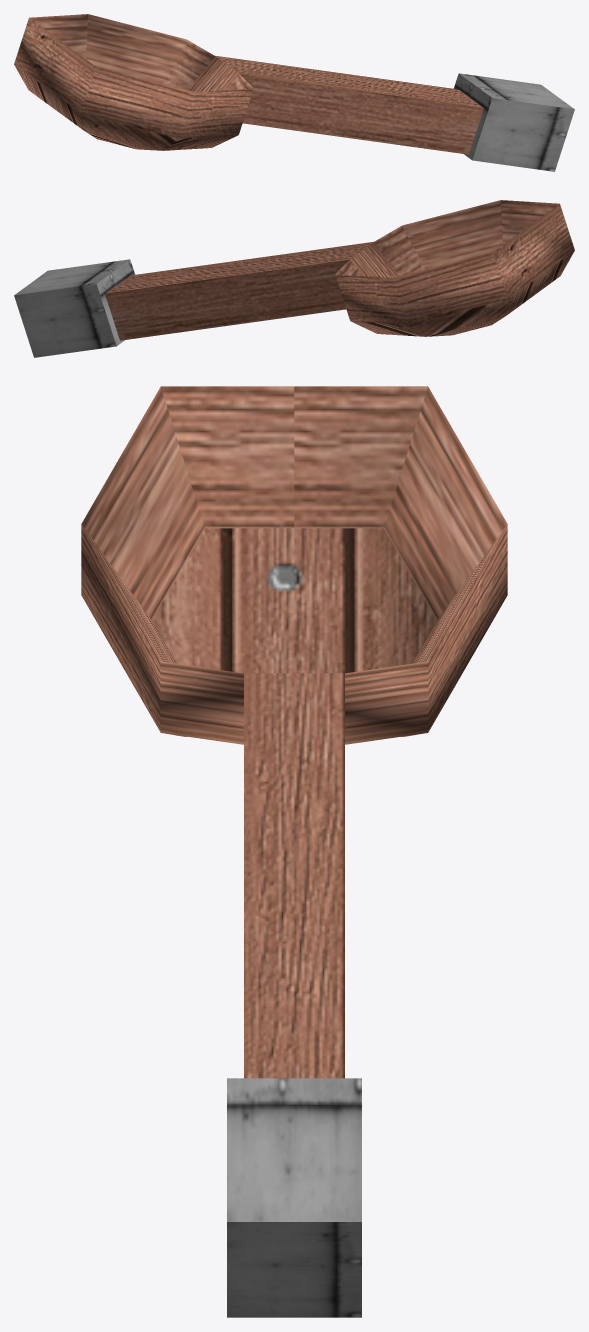
File: CatapultaBrazo.fbx
The picture shows the model from 3 angles, top to bottom: view 1: azimuth 30°, elevation 25°; view 2: azimuth 150°, elevation 25°; view 3: azimuth 270°, elevation 25°; orthographic projection. The views are drawn at different scales.
Parts seen in each view (by area): view 1: CubeFire; view 2: CubeFire; view 3: CubeFire.
Boxes of the visible parts, left/top/right/bottom form: CubeFire: left=14, top=14, right=574, bottom=171; CubeFire: left=14, top=200, right=574, bottom=357; CubeFire: left=81, top=386, right=507, bottom=1317.
Bounding box in the file's own units: 370 × 162 × 134.
